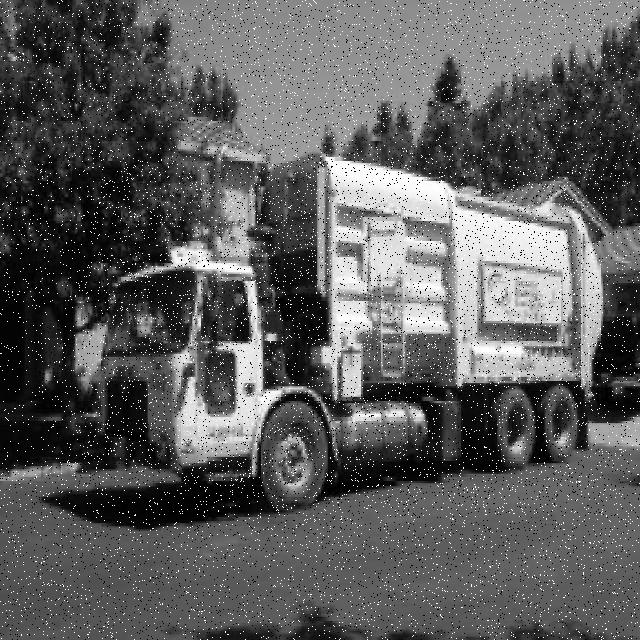Garbage Truck: (96, 154, 604, 514)
